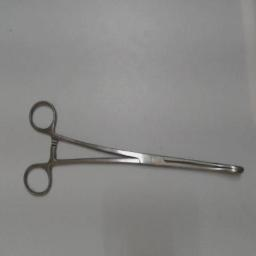Sponge Forceps: (21, 97, 251, 201)
